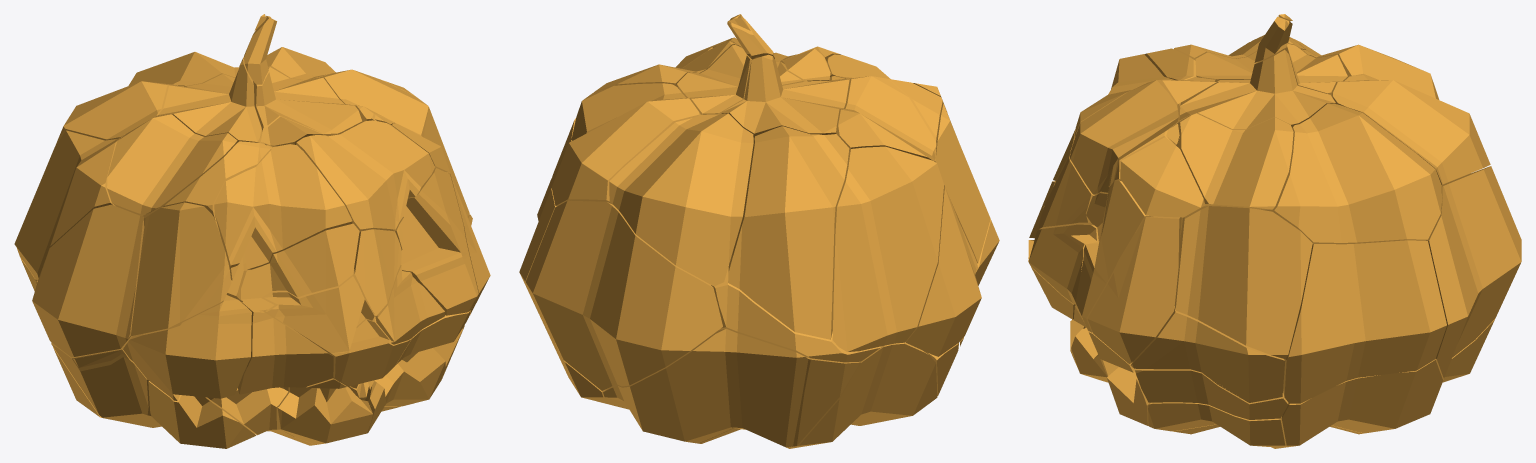
The model's file is pumpkin-carved-lit-c broken.fbx.
3 views of the same model, side by side, from view 1: azimuth 30°, elevation 25°; view 2: azimuth 150°, elevation 25°; view 3: azimuth 270°, elevation 25° (orthographic). The views are drawn at different scales.
Parts seen in each view (by area): view 1: pumpkin-carved-lit-c_cell.016, pumpkin-carved-lit-c_cell.007, pumpkin-carved-lit-c_cell.066, pumpkin-carved-lit-c_cell.082, pumpkin-carved-lit-c_cell.029, pumpkin-carved-lit-c_cell, pumpkin-carved-lit-c_cell.038, pumpkin-carved-lit-c_cell.005, pumpkin-carved-lit-c_cell.077, pumpkin-carved-lit-c_cell.073, pumpkin-carved-lit-c_cell.063, pumpkin-carved-lit-c_cell.012 (+20 smaller); view 2: pumpkin-carved-lit-c_cell.026, pumpkin-carved-lit-c_cell.005, pumpkin-carved-lit-c_cell.001, pumpkin-carved-lit-c_cell.052, pumpkin-carved-lit-c_cell.060, pumpkin-carved-lit-c_cell.017, pumpkin-carved-lit-c_cell.049, pumpkin-carved-lit-c_cell.063, pumpkin-carved-lit-c_cell.016, pumpkin-carved-lit-c_cell, pumpkin-carved-lit-c_cell.023, pumpkin-carved-lit-c_cell.066 (+11 smaller); view 3: pumpkin-carved-lit-c_cell.080, pumpkin-carved-lit-c_cell.017, pumpkin-carved-lit-c_cell.033, pumpkin-carved-lit-c_cell.026, pumpkin-carved-lit-c_cell.004, pumpkin-carved-lit-c_cell.043, pumpkin-carved-lit-c_cell.052, pumpkin-carved-lit-c_cell.034, pumpkin-carved-lit-c_cell.084, pumpkin-carved-lit-c_cell.082, pumpkin-carved-lit-c_cell.078, pumpkin-carved-lit-c_cell.038 (+15 smaller).
Part boxes in pixels (bbox=[...]): pumpkin-carved-lit-c_cell.016: bbox=[32, 204, 144, 357]; pumpkin-carved-lit-c_cell.007: bbox=[214, 144, 352, 269]; pumpkin-carved-lit-c_cell.066: bbox=[131, 202, 231, 335]; pumpkin-carved-lit-c_cell.082: bbox=[296, 120, 434, 232]; pumpkin-carved-lit-c_cell.029: bbox=[123, 295, 251, 400]; pumpkin-carved-lit-c_cell: bbox=[107, 114, 237, 216]; pumpkin-carved-lit-c_cell.038: bbox=[393, 168, 478, 315]; pumpkin-carved-lit-c_cell.005: bbox=[14, 130, 124, 283]; pumpkin-carved-lit-c_cell.077: bbox=[241, 223, 359, 311]; pumpkin-carved-lit-c_cell.073: bbox=[238, 301, 333, 394]; pumpkin-carved-lit-c_cell.063: bbox=[156, 57, 265, 144]; pumpkin-carved-lit-c_cell.012: bbox=[365, 311, 469, 433]; pumpkin-carved-lit-c_cell.026: bbox=[525, 200, 722, 390]; pumpkin-carved-lit-c_cell.005: bbox=[832, 146, 943, 351]; pumpkin-carved-lit-c_cell.001: bbox=[728, 126, 850, 339]; pumpkin-carved-lit-c_cell.052: bbox=[609, 113, 753, 286]; pumpkin-carved-lit-c_cell.060: bbox=[603, 329, 808, 447]; pumpkin-carved-lit-c_cell.017: bbox=[551, 83, 700, 206]; pumpkin-carved-lit-c_cell.049: bbox=[787, 342, 937, 448]; pumpkin-carved-lit-c_cell.063: bbox=[721, 54, 851, 137]; pumpkin-carved-lit-c_cell.016: bbox=[905, 185, 981, 356]; pumpkin-carved-lit-c_cell: bbox=[838, 76, 936, 161]; pumpkin-carved-lit-c_cell.023: bbox=[711, 265, 881, 362]; pumpkin-carved-lit-c_cell.066: bbox=[935, 104, 990, 263]; pumpkin-carved-lit-c_cell.080: bbox=[1283, 240, 1446, 403]; pumpkin-carved-lit-c_cell.017: bbox=[1261, 103, 1441, 244]; pumpkin-carved-lit-c_cell.033: bbox=[1174, 206, 1312, 359]; pumpkin-carved-lit-c_cell.026: bbox=[1425, 166, 1521, 379]; pumpkin-carved-lit-c_cell.004: bbox=[1176, 113, 1293, 209]; pumpkin-carved-lit-c_cell.043: bbox=[1087, 216, 1181, 364]; pumpkin-carved-lit-c_cell.052: bbox=[1332, 75, 1490, 184]; pumpkin-carved-lit-c_cell.034: bbox=[1281, 359, 1443, 446]; pumpkin-carved-lit-c_cell.084: bbox=[1130, 306, 1285, 402]; pumpkin-carved-lit-c_cell.082: bbox=[1070, 80, 1180, 195]; pumpkin-carved-lit-c_cell.078: bbox=[1179, 49, 1335, 129]; pumpkin-carved-lit-c_cell.038: bbox=[1075, 180, 1182, 332].
Size of the model in its own units: 61.49 by 54.03 by 61.49.
